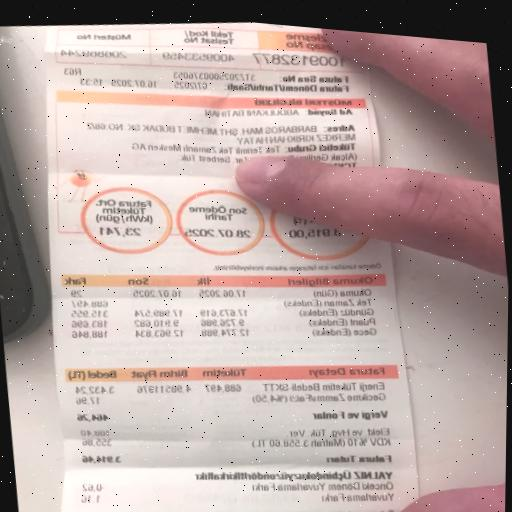electricity-bill: (45, 22, 417, 511)
